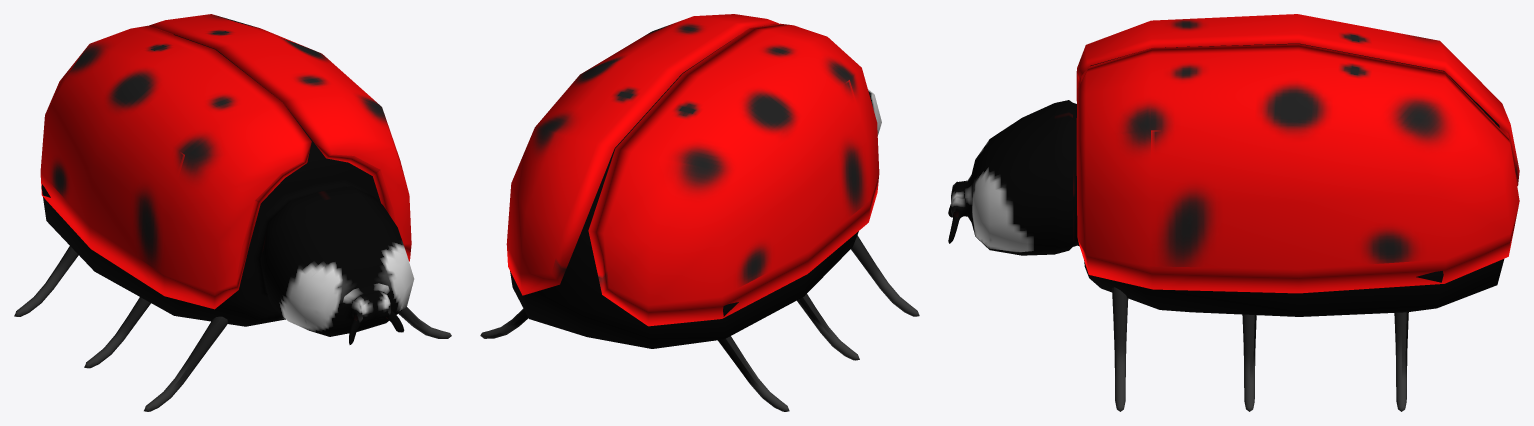
File: ladybug.fbx
The picture shows the model from 3 angles, left to right: view 1: azimuth 30°, elevation 25°; view 2: azimuth 150°, elevation 25°; view 3: azimuth 270°, elevation 25°; orthographic projection. The views are drawn at different scales.
Parts seen in each view (by area): view 1: Cube.001, Cube, Cube.002; view 2: Cube.001, Cube.002, Cube; view 3: Cube.002, Cube, Cube.001.
Boxes of the visible parts, bbox=[...] form: Cube.001: bbox=[40, 25, 311, 309]; Cube: bbox=[14, 34, 451, 411]; Cube.002: bbox=[149, 14, 411, 261]; Cube.001: bbox=[588, 23, 879, 326]; Cube.002: bbox=[506, 14, 778, 295]; Cube: bbox=[480, 41, 919, 411]; Cube.002: bbox=[1076, 44, 1519, 293]; Cube: bbox=[948, 43, 1504, 411]; Cube.001: bbox=[1076, 14, 1519, 185].
Size of the model in its own units: 8.37 by 6.91 by 12.37.
1 material, 1 textured.
